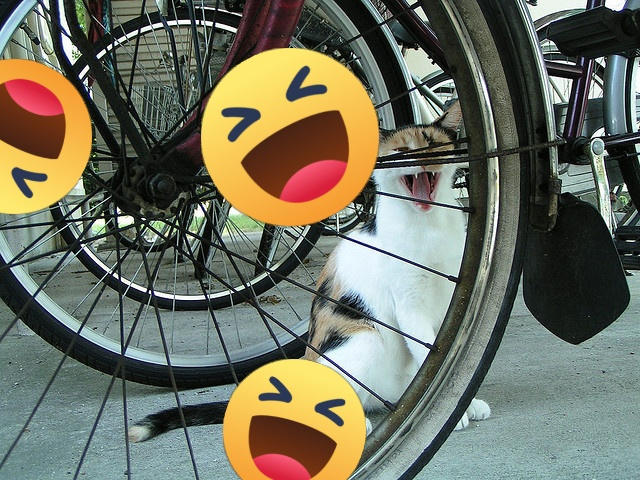haha: (201, 48, 379, 226), (223, 359, 366, 480), (0, 59, 92, 214)
